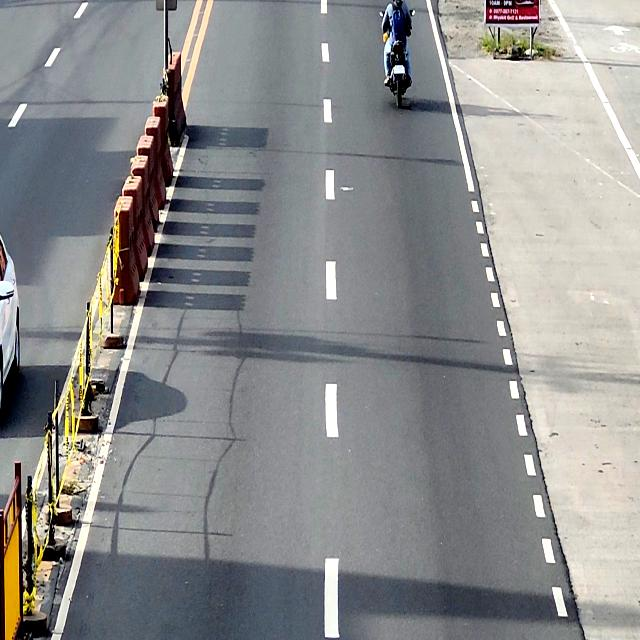Car: (0, 232, 21, 416)
License-Plate: (393, 63, 405, 75)
Motorcycle: (379, 10, 413, 109)
